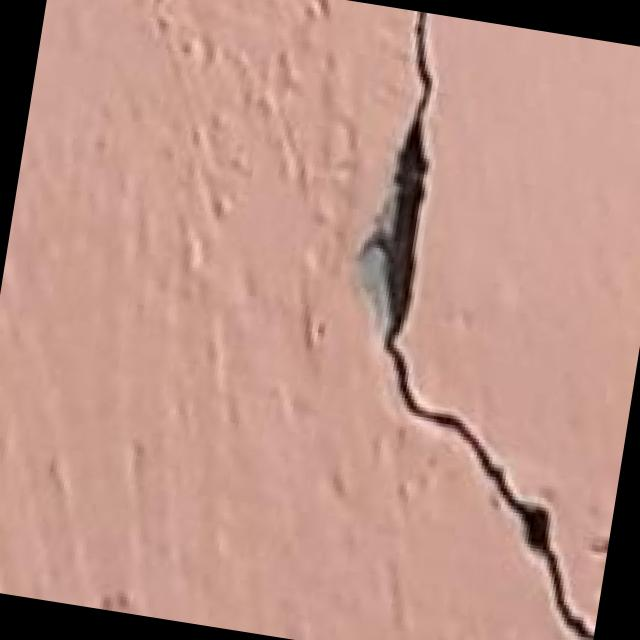crack: (270, 4, 640, 640)
